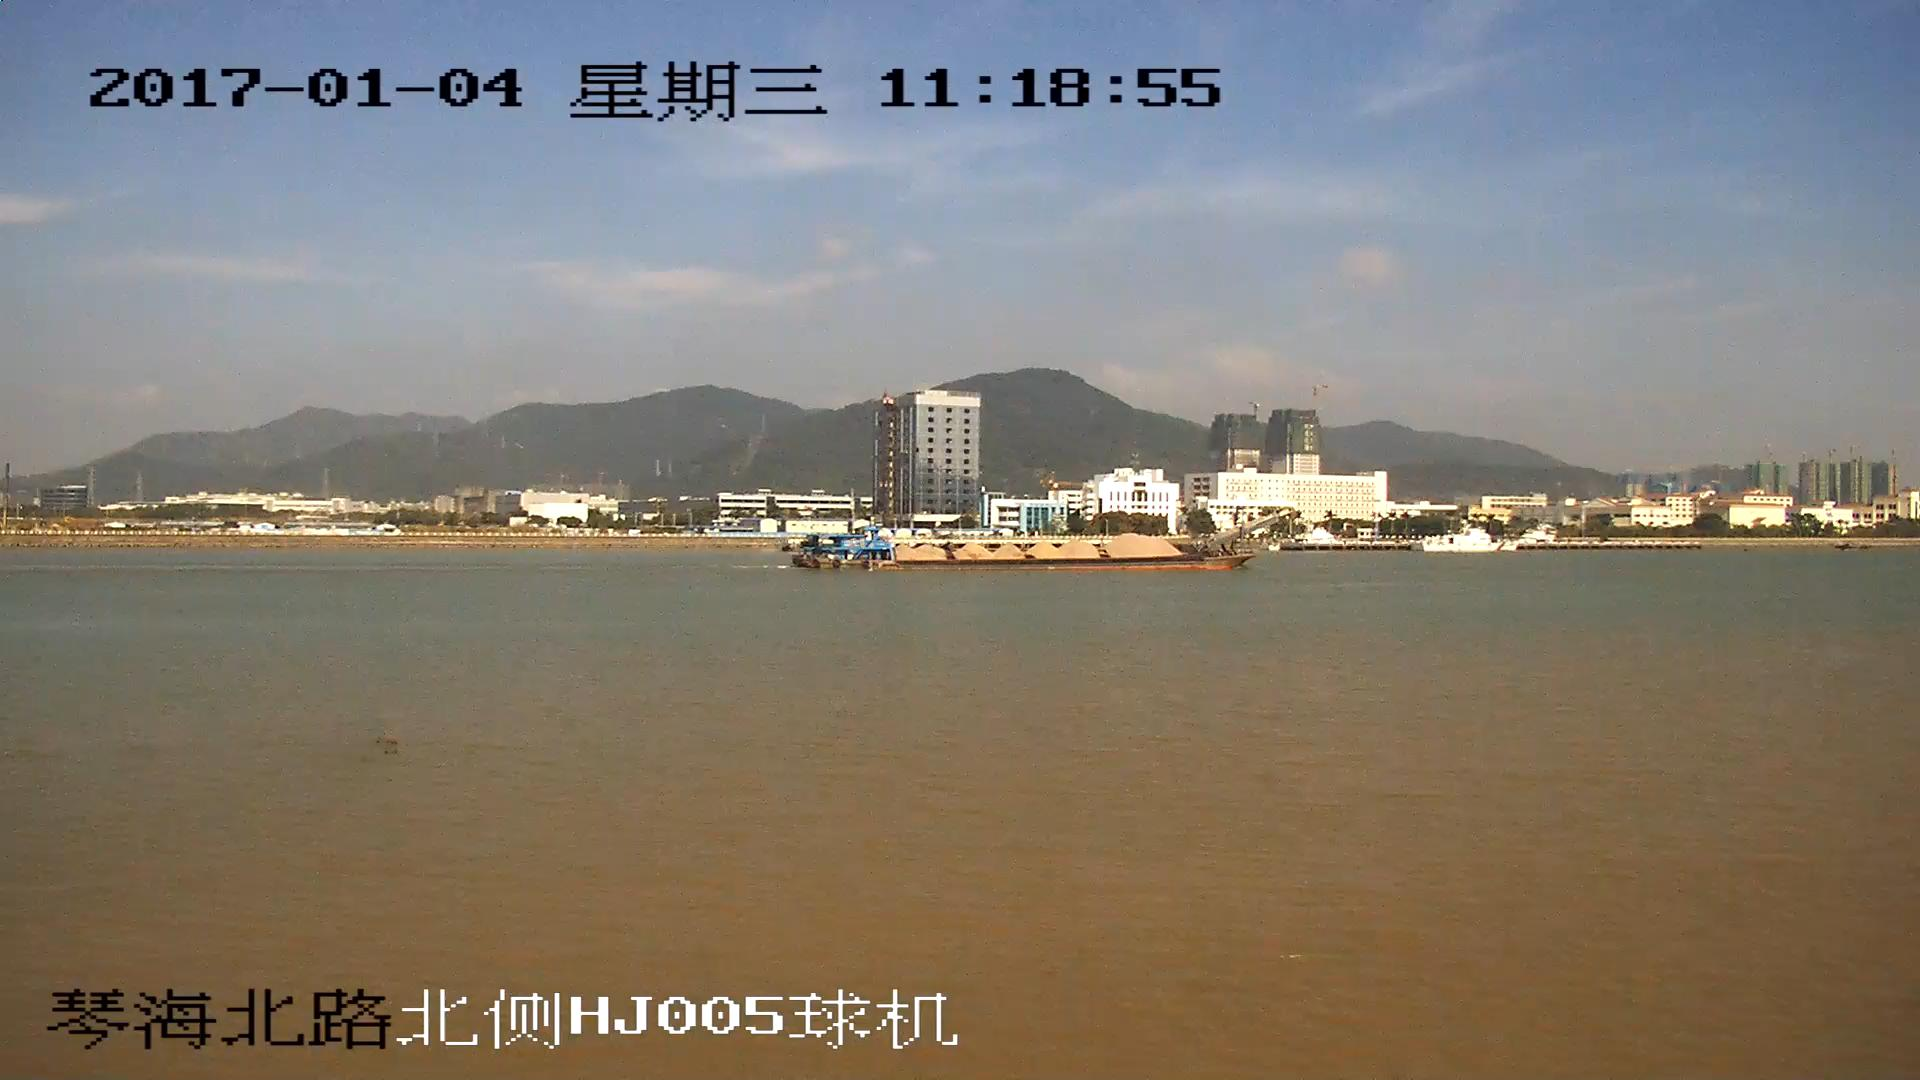ore carrier: (798, 512, 1286, 572)
